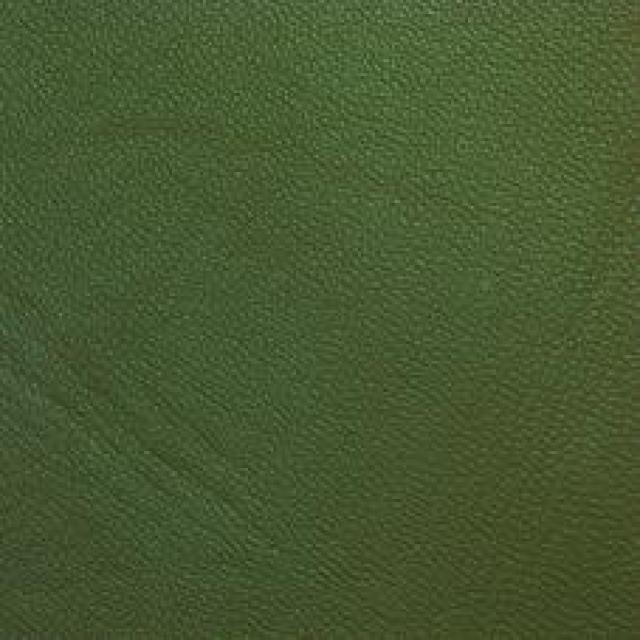Growth Marks: (32, 350, 297, 570), (96, 96, 489, 244)
